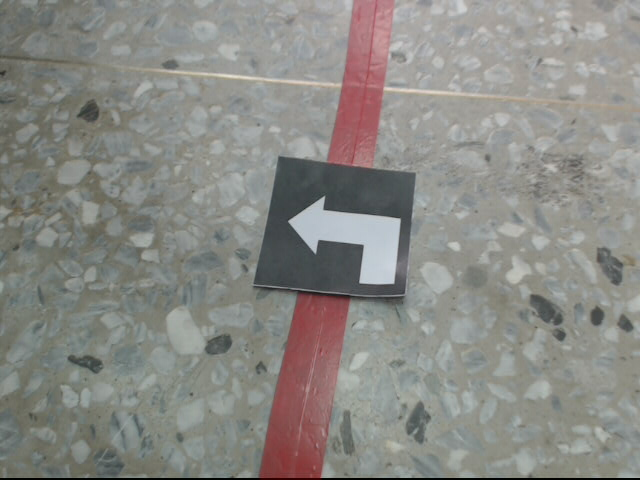left: (252, 153, 418, 299)
